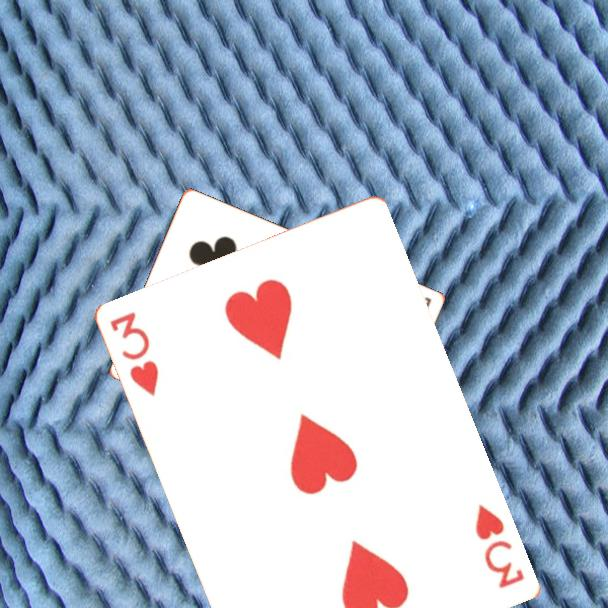h03: (106, 308, 162, 400), (472, 501, 528, 592)
